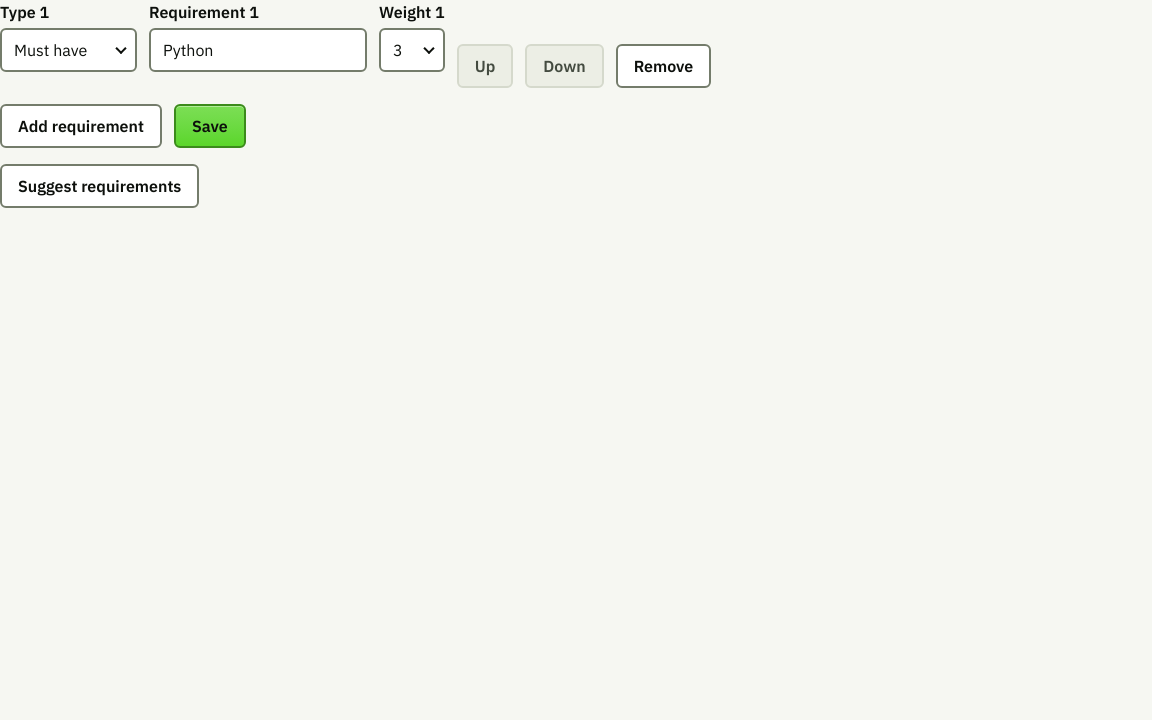
Scenario: requirement editor › adds a requirement and saves the whole list in order
Expected: the field showing "Python" is shown, [149,28,367,72]
Click the button "Add requirement" at (81, 126), box [0,104,162,148]
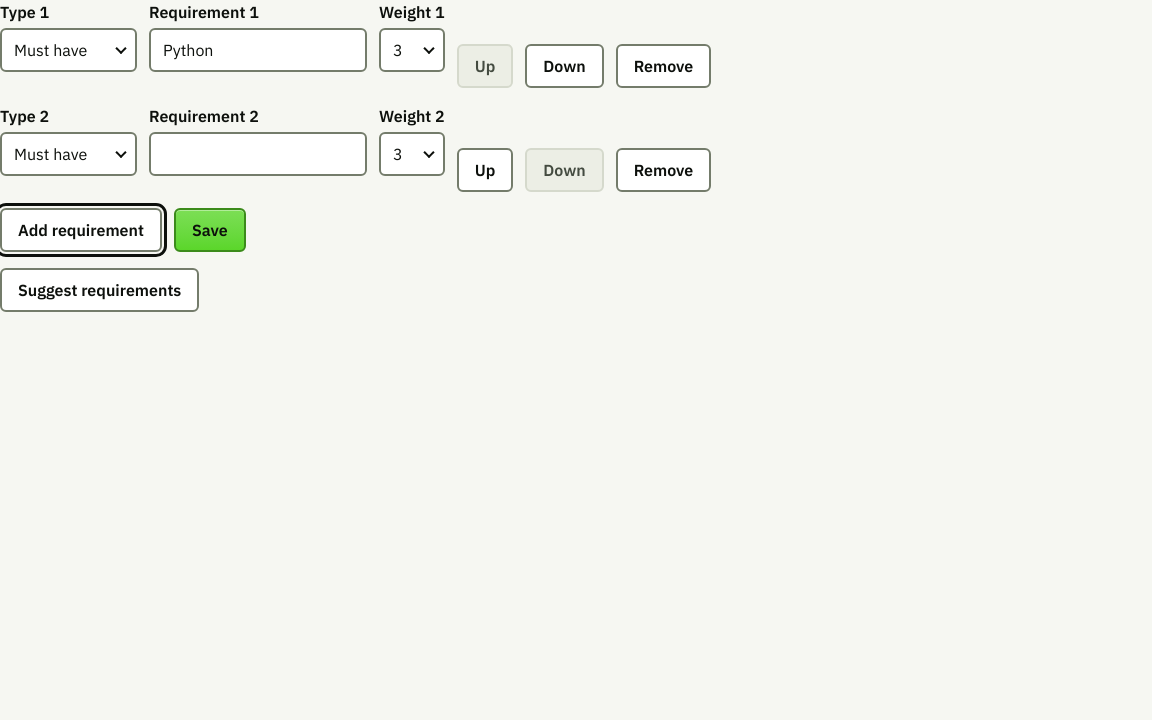
Type "Django" into the field labelled "Requirement 2" at (258, 154), box [149,132,367,176]
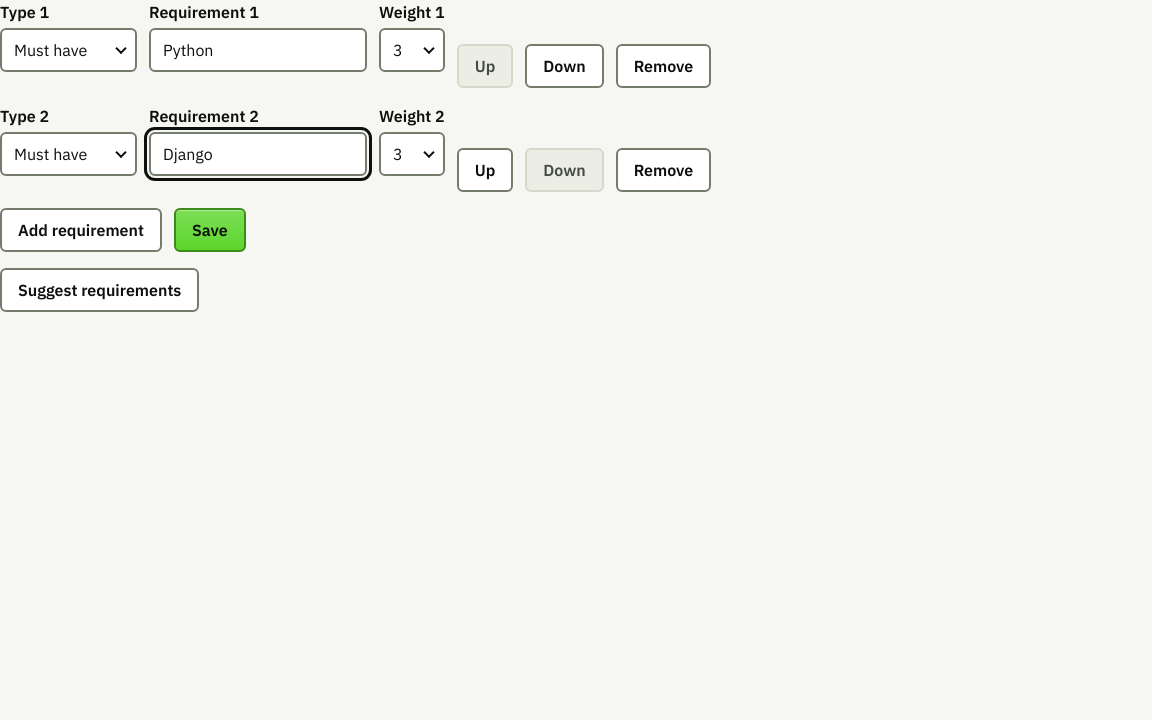
Select "Nice to have" in the dropdown labelled "Type 2" at (68, 154), box [0,132,137,176]
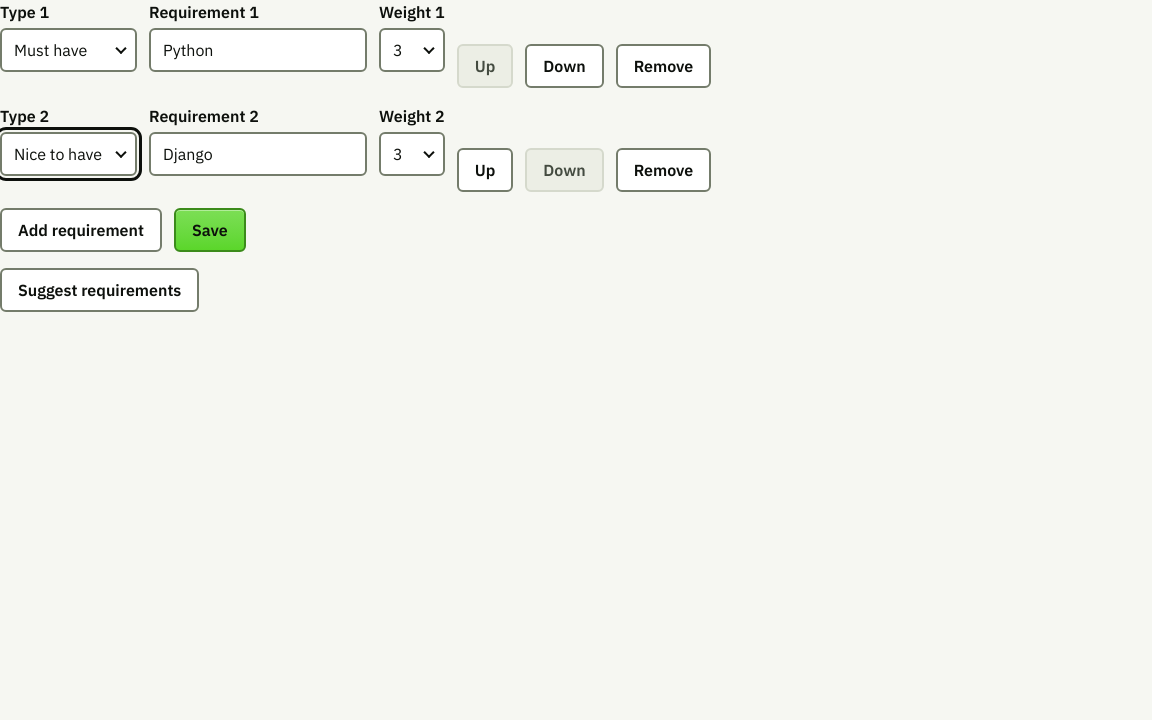
Select "5" in the dropdown labelled "Weight 2" at (412, 154), box [379,132,445,176]
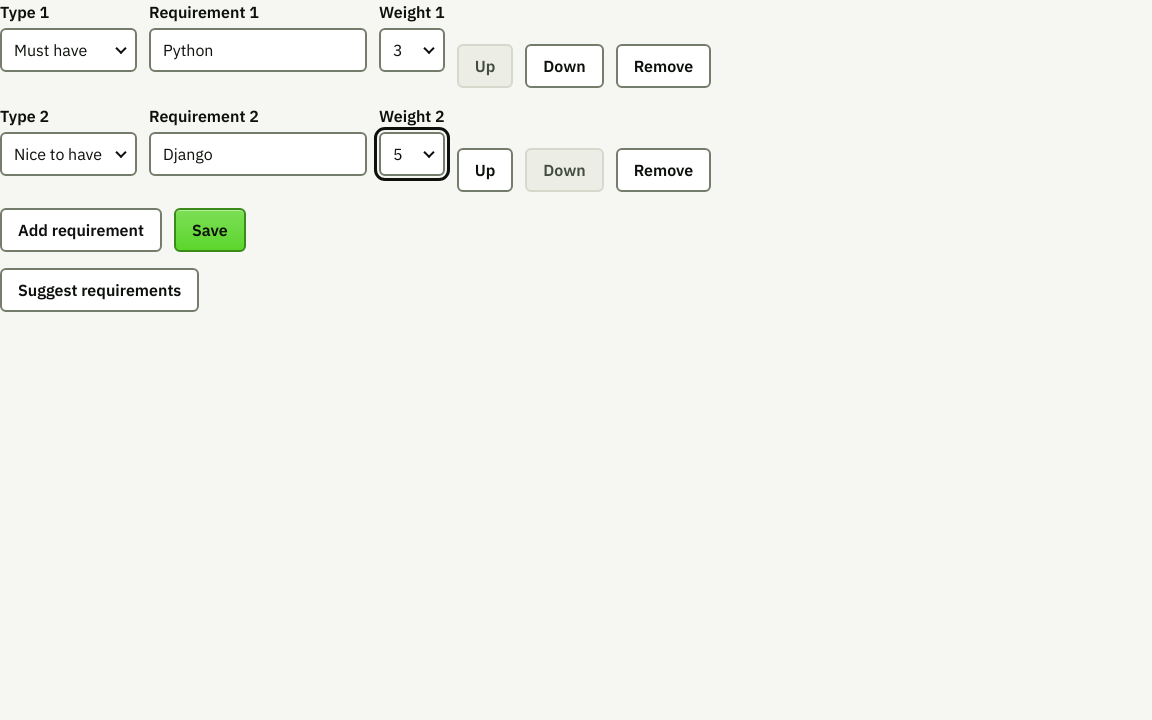
Click the button "Save" at (210, 230), box [174,208,246,252]
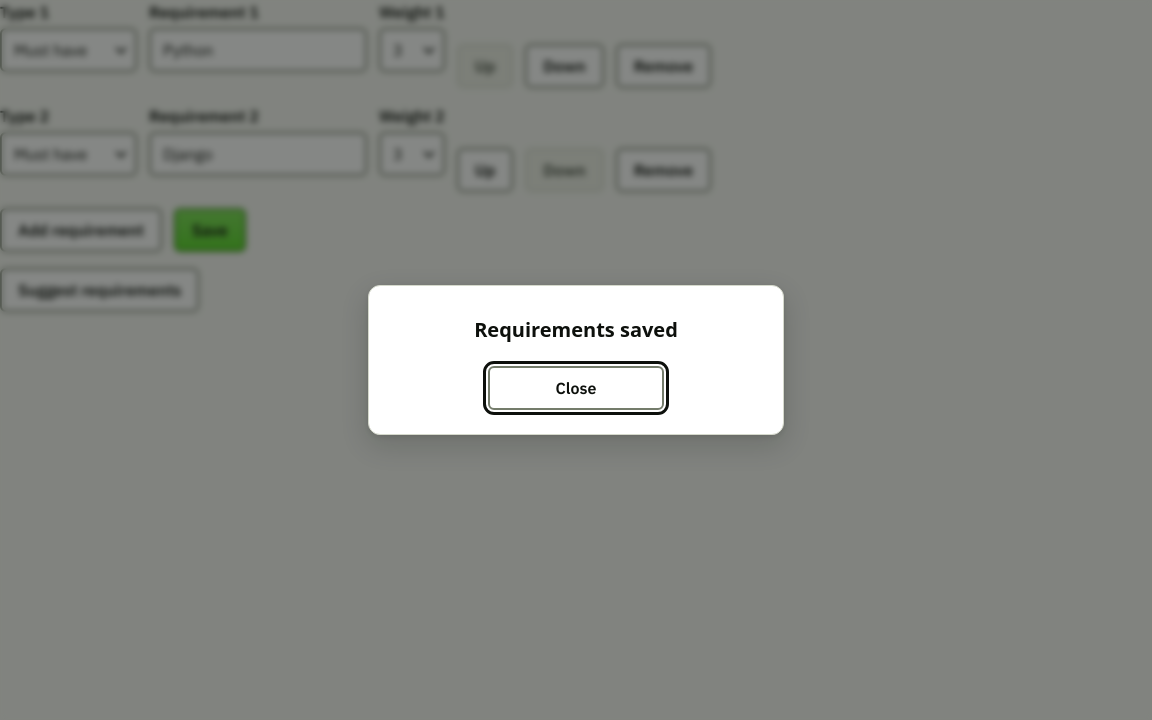
Now the heading "Requirements saved" is shown, box [474,316,678,343]
